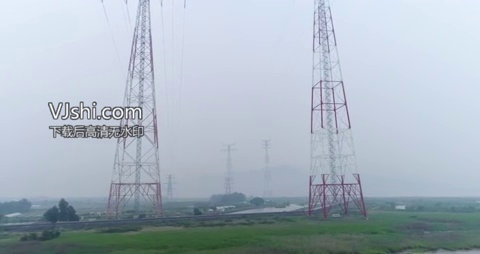tower_body: (304, 2, 379, 218)
tower_foot: (307, 163, 368, 215)
